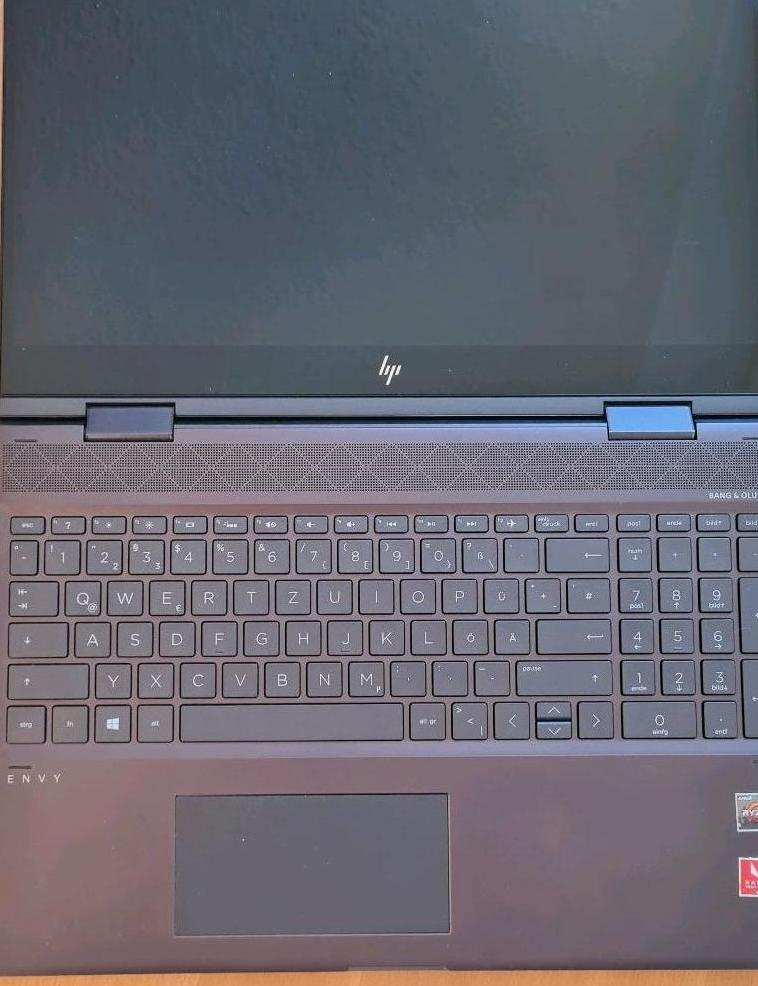0: (417, 535, 454, 571)
1: (41, 536, 79, 573)
2: (83, 536, 121, 573)
3: (125, 536, 163, 573)
4: (168, 536, 205, 572)
5: (209, 536, 247, 572)
6: (251, 536, 289, 572)
7: (293, 536, 331, 572)
8: (334, 536, 372, 572)
9: (376, 536, 413, 572)
a: (71, 618, 109, 656)
accent: (501, 535, 537, 570)
ae: (491, 616, 529, 653)
alt-left: (134, 702, 172, 742)
altgr-right: (406, 699, 445, 739)
b: (261, 659, 300, 696)
c: (177, 659, 215, 697)
caret: (7, 537, 36, 573)
comma: (387, 658, 424, 695)
d: (157, 618, 194, 655)
del: (543, 534, 608, 570)
e: (146, 576, 184, 614)
enter: (534, 615, 611, 652)
f: (199, 618, 236, 654)
g: (241, 617, 278, 654)
h: (283, 617, 320, 654)
hash: (564, 575, 609, 611)
i: (356, 575, 392, 612)
j: (325, 617, 362, 654)
k: (366, 616, 403, 653)
keyboard: (1, 495, 758, 759)
l: (408, 616, 445, 653)
less: (447, 700, 487, 740)
m: (345, 658, 384, 695)
minus: (471, 658, 509, 694)
n: (304, 658, 342, 695)
o: (397, 575, 435, 612)
oe: (450, 616, 487, 653)
p: (439, 575, 476, 612)
plus: (522, 574, 559, 611)
point: (429, 658, 466, 694)
q: (62, 577, 100, 615)
r: (189, 576, 226, 614)
s: (114, 618, 152, 655)
shift-left: (5, 659, 88, 698)
shift-lock: (5, 618, 67, 656)
shift-right: (513, 656, 610, 694)
space: (176, 700, 402, 741)
ss: (459, 535, 496, 571)
strg-left: (3, 703, 46, 743)
t: (231, 576, 268, 613)
tab: (6, 577, 57, 614)
u: (314, 576, 352, 613)
ue: (481, 575, 517, 612)
v: (219, 659, 257, 696)
w: (104, 576, 142, 614)
x: (135, 659, 172, 696)
y: (92, 660, 130, 697)
z: (273, 576, 309, 613)
